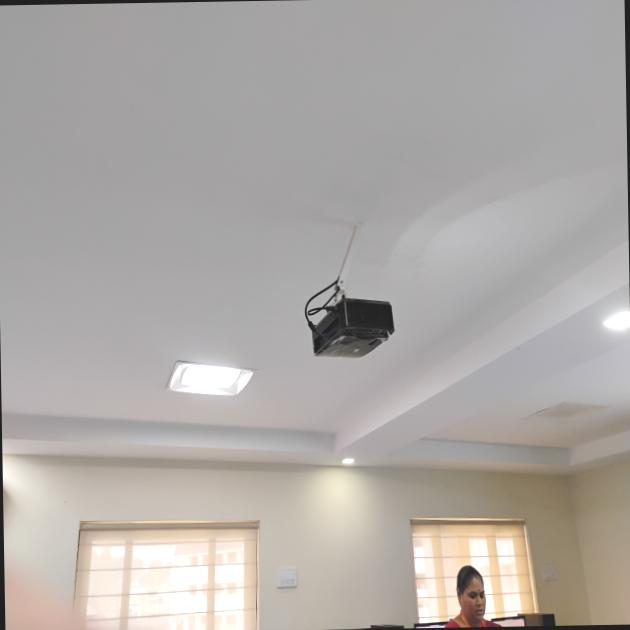light: (168, 343, 266, 439), (598, 299, 630, 358)
projector: (298, 251, 408, 414)
windowscreen: (69, 501, 295, 630)
